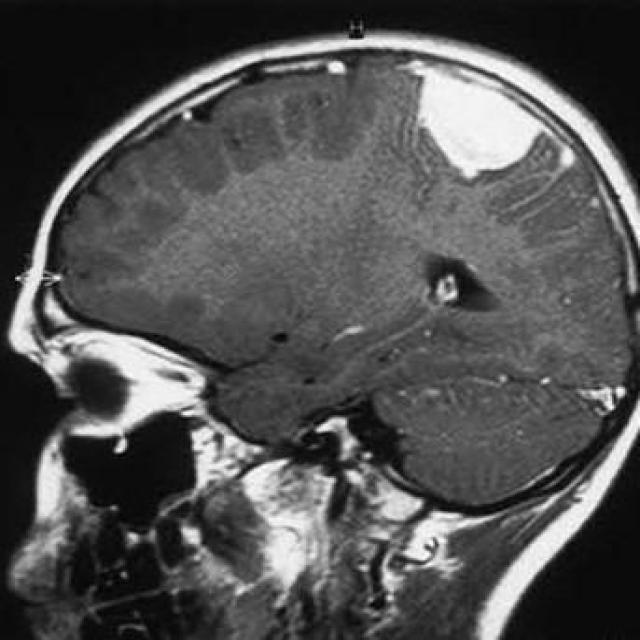Tumor: (399, 56, 569, 195)
